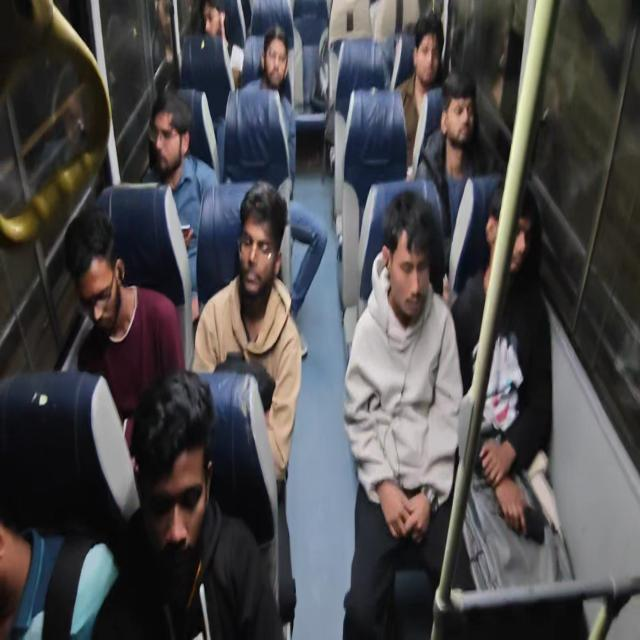person: (342, 188, 464, 638), (90, 368, 284, 638), (191, 180, 303, 634), (450, 180, 561, 590), (0, 368, 140, 638), (63, 207, 185, 451), (239, 26, 327, 357), (414, 68, 502, 278), (140, 89, 219, 315), (0, 519, 119, 638), (394, 13, 446, 182), (243, 25, 297, 184), (200, 1, 244, 90), (247, 25, 293, 107)
